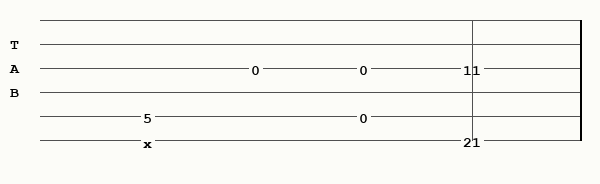0: (251, 62, 264, 75), (359, 110, 372, 123), (359, 62, 372, 75)
11: (463, 62, 485, 75)
21: (463, 134, 485, 147)
5: (143, 110, 156, 123)
x: (143, 135, 156, 145)
